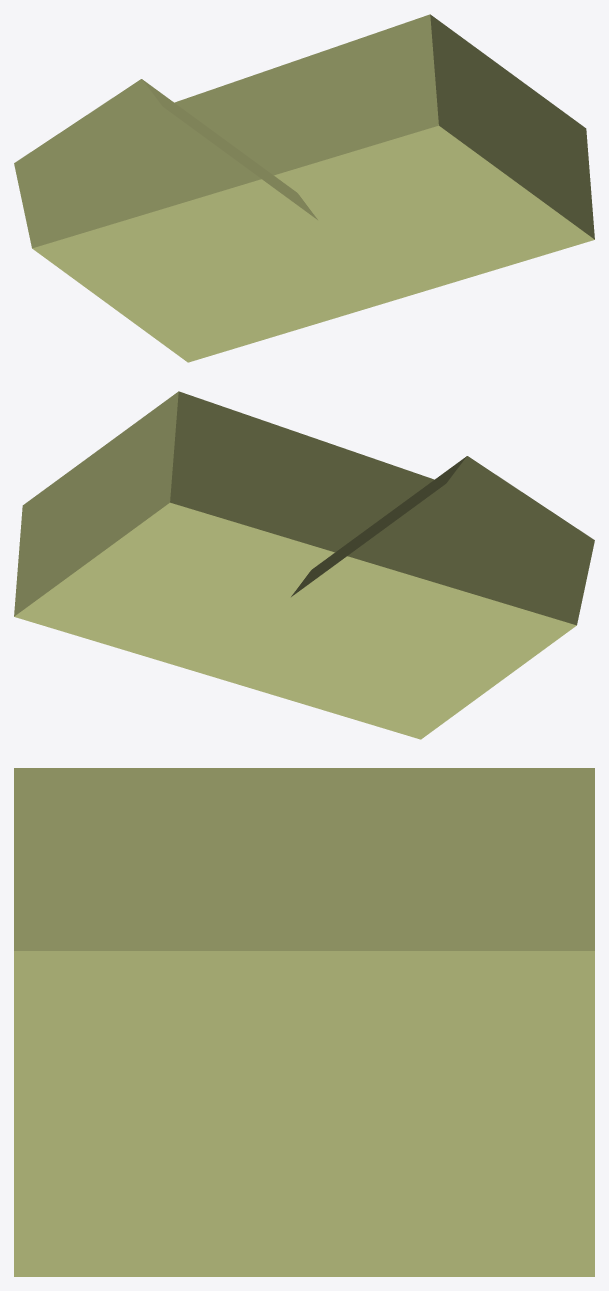
The picture shows the model from 3 angles, top to bottom: view 1: azimuth 30°, elevation 25°; view 2: azimuth 150°, elevation 25°; view 3: azimuth 270°, elevation 25°; orthographic projection. The views are drawn at different scales.
Parts seen in each view (by area): view 1: 0_0_1_1_3_2_3_2_0_2; view 2: 0_0_1_1_3_2_3_2_0_2; view 3: 0_0_1_1_3_2_3_2_0_2.
Part boxes in pixels (x1,y1,x2,y2): 0_0_1_1_3_2_3_2_0_2: (14, 14, 594, 362); 0_0_1_1_3_2_3_2_0_2: (14, 391, 594, 739); 0_0_1_1_3_2_3_2_0_2: (14, 768, 594, 1276).
Bounding box in the file's own units: 14.15 × 4.55 × 9.
